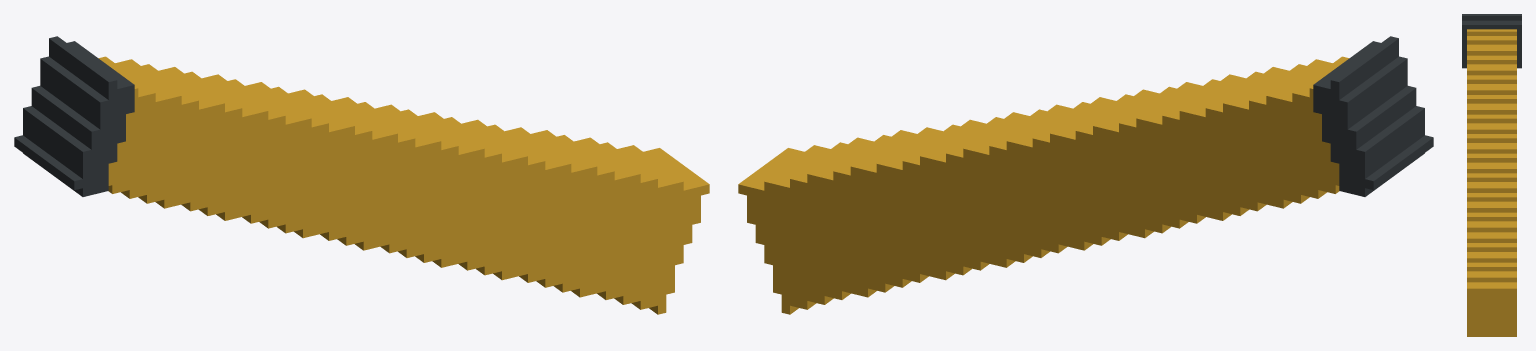
Rendered from tow_truck_boom.glb.
The picture shows the model from 3 angles, left to right: view 1: azimuth 30°, elevation 25°; view 2: azimuth 150°, elevation 25°; view 3: azimuth 270°, elevation 25°; orthographic projection. The views are drawn at different scales.
Parts seen in each view (by area): view 1: body:compound; view 2: body:compound; view 3: body:compound.
Part boxes in pixels (box(x1,y1,x2,y2)): body:compound: box(14, 36, 709, 314); body:compound: box(738, 36, 1433, 314); body:compound: box(1462, 14, 1521, 336).
Bounding box in the file's own units: 2.31 × 1.28 × 0.375.
